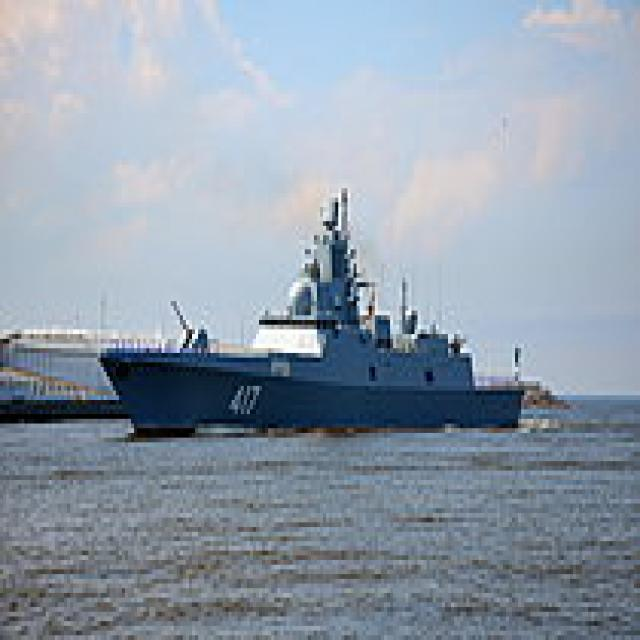Warship: (95, 179, 524, 433)
